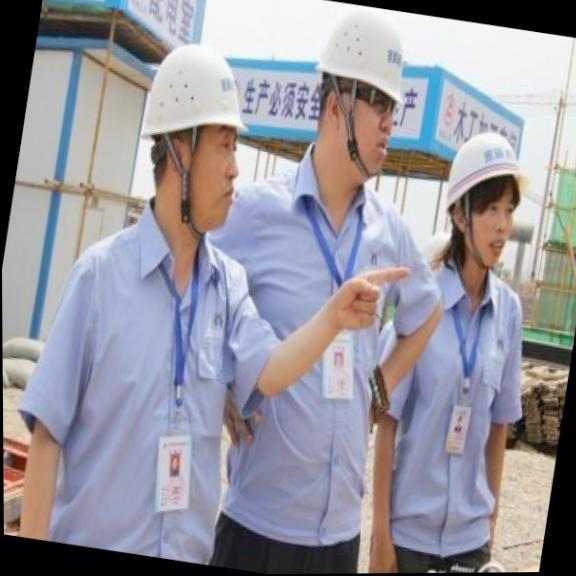no_safety_vest: (1, 194, 288, 570), (198, 160, 441, 553), (347, 255, 547, 573)
